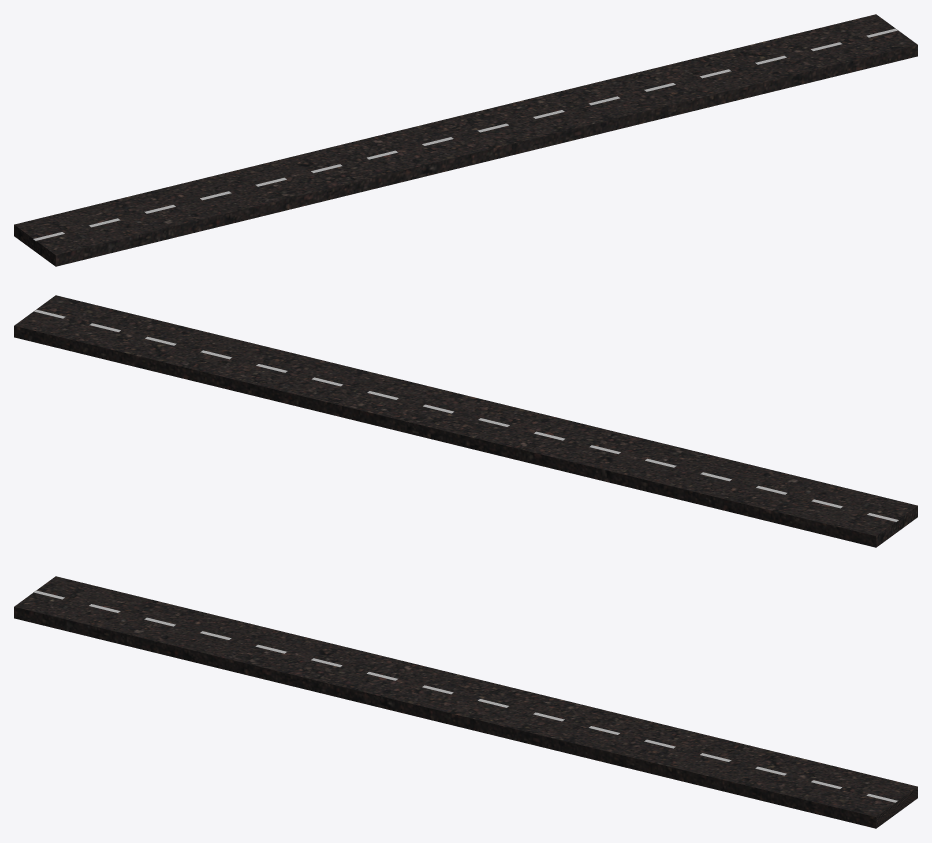
File: alumni road.glb
3 renders of one model, top to bottom at view 1: azimuth 30°, elevation 25°; view 2: azimuth 150°, elevation 25°; view 3: azimuth 330°, elevation 25°, orthographic.
Parts seen in each view (by area): view 1: polySurface1061; view 2: polySurface1061; view 3: polySurface1061.
Boxes of the visible parts, left/top/right/bottom form: polySurface1061: left=14, top=14, right=917, bottom=266; polySurface1061: left=14, top=295, right=917, bottom=547; polySurface1061: left=14, top=576, right=917, bottom=828.
Bounding box in the file's own units: 78.04 × 1 × 6.55.
Materials: 2 (1 with a texture image).
